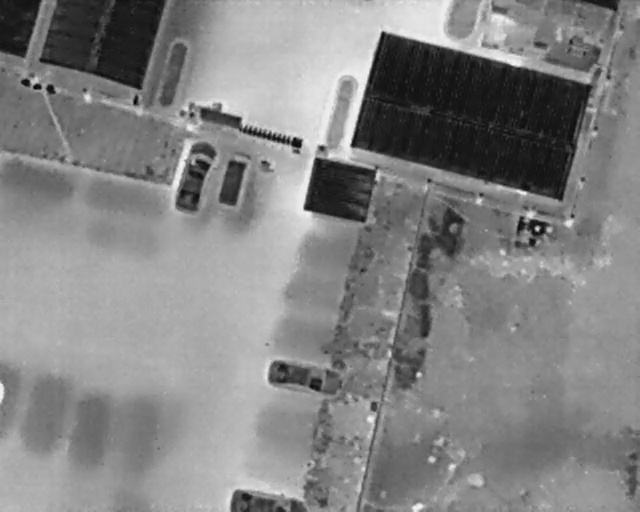Car: (170, 137, 220, 218), (265, 355, 342, 397), (228, 487, 308, 512)
